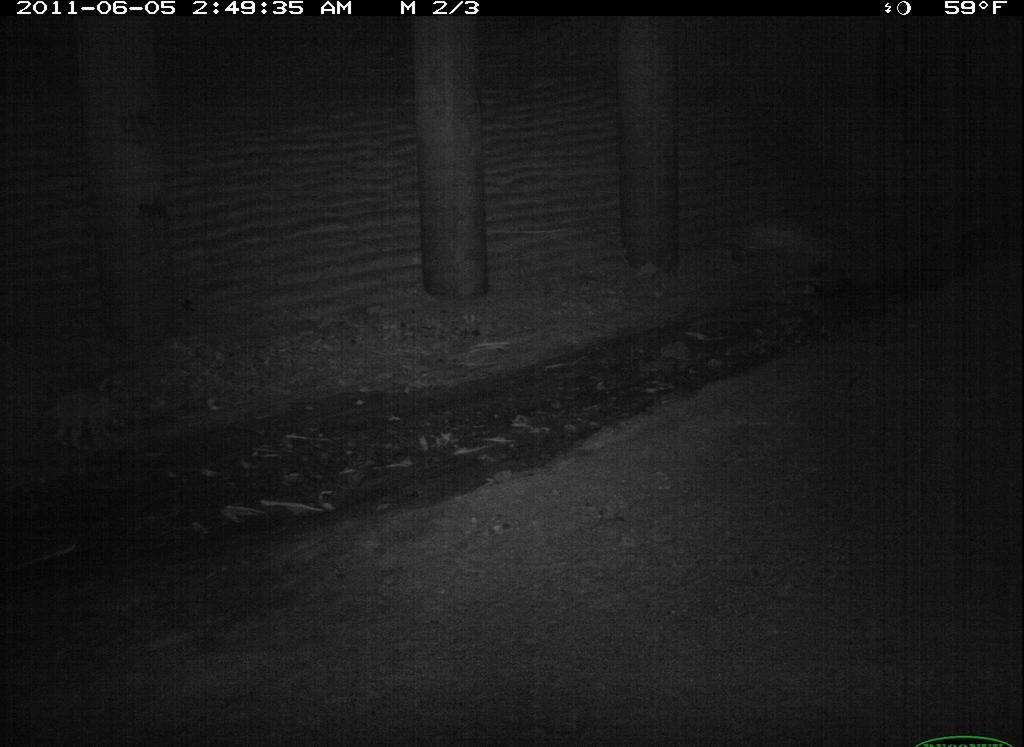bobcat: (71, 742, 261, 747)
